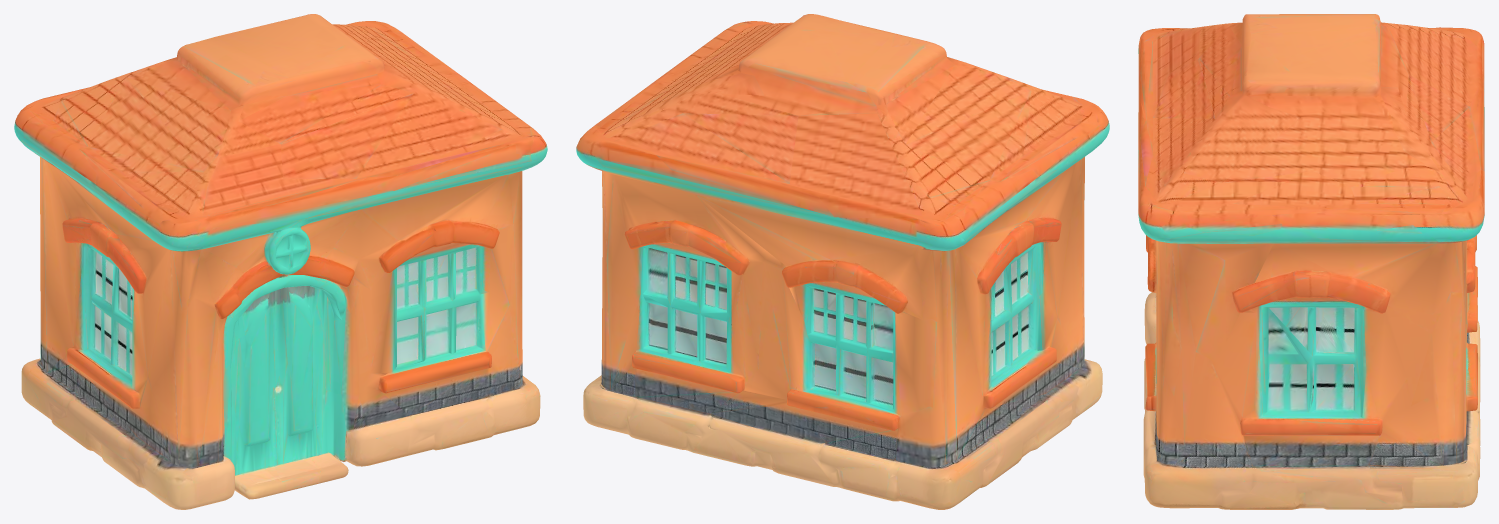
Rendered from house.glb.
3 renders of one model, left to right at view 1: azimuth 30°, elevation 25°; view 2: azimuth 150°, elevation 25°; view 3: azimuth 270°, elevation 25°, orthographic. The views are drawn at different scales.
Size of the model in its own units: 1.91 by 1.74 by 1.45.
Materials: 1 (1 with a texture image).
